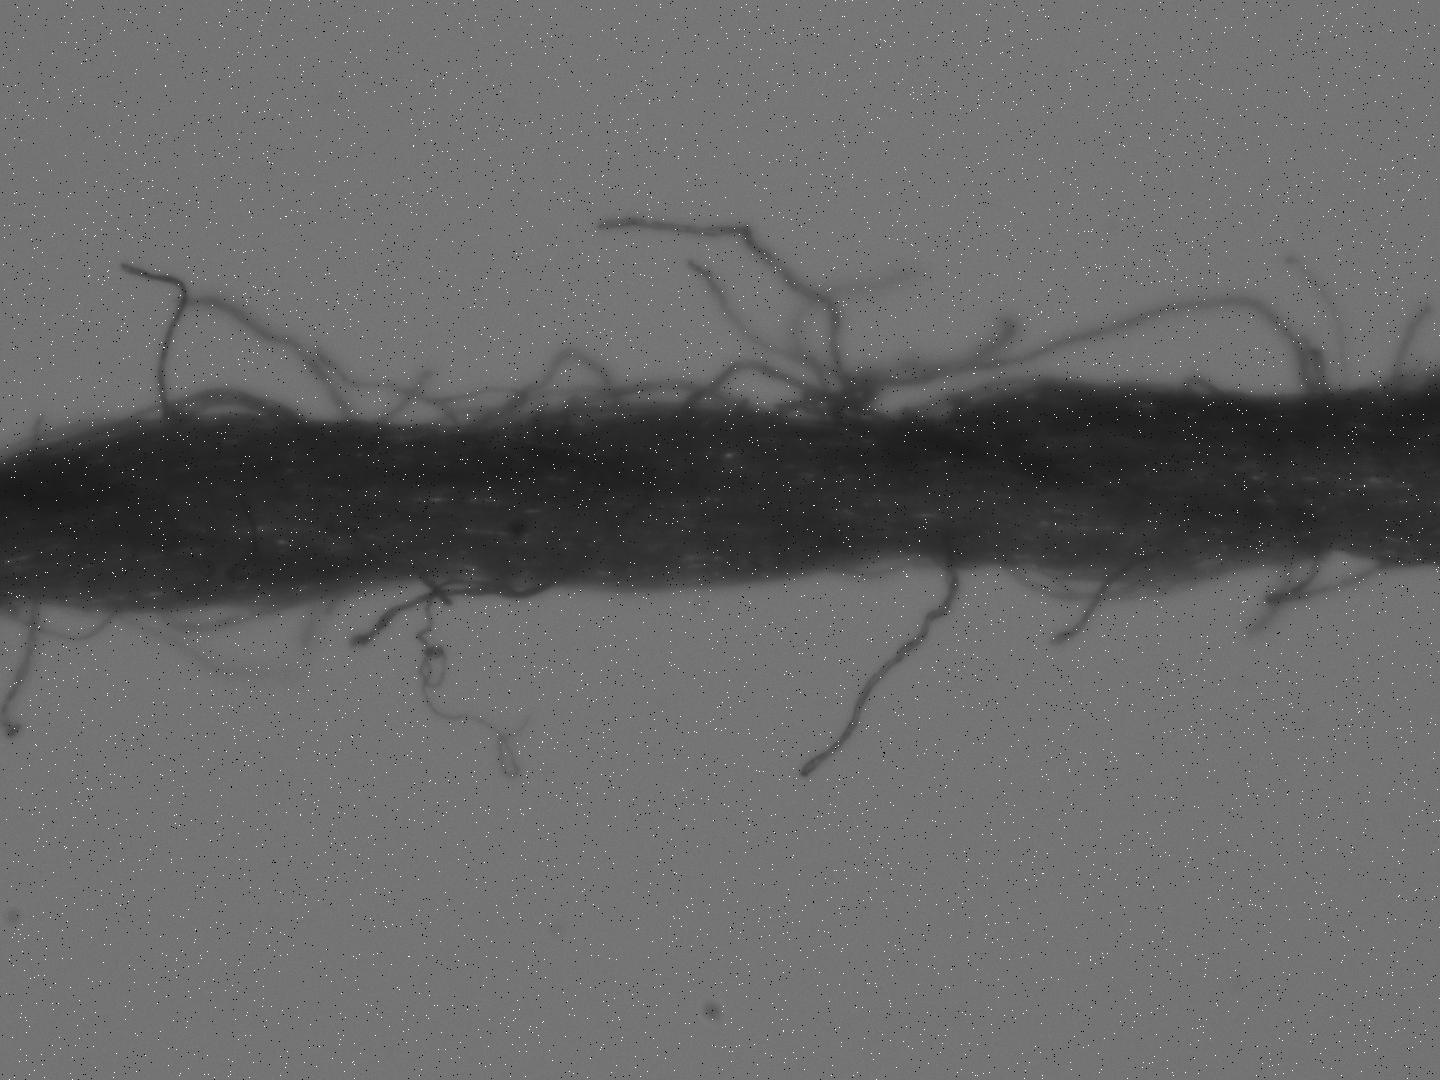loop_fiber: (772, 294, 1319, 428), (1, 592, 350, 684), (455, 345, 762, 427), (3, 387, 311, 465), (684, 356, 875, 420), (1000, 562, 1231, 606), (1259, 542, 1405, 607)
protruding_fiber: (601, 214, 869, 423), (798, 557, 960, 777), (414, 575, 527, 781), (683, 261, 838, 408), (194, 292, 366, 420), (345, 581, 562, 651), (116, 258, 189, 429), (321, 353, 465, 427), (1282, 256, 1359, 393), (1043, 569, 1127, 647), (1, 592, 42, 745), (1389, 304, 1433, 398)
